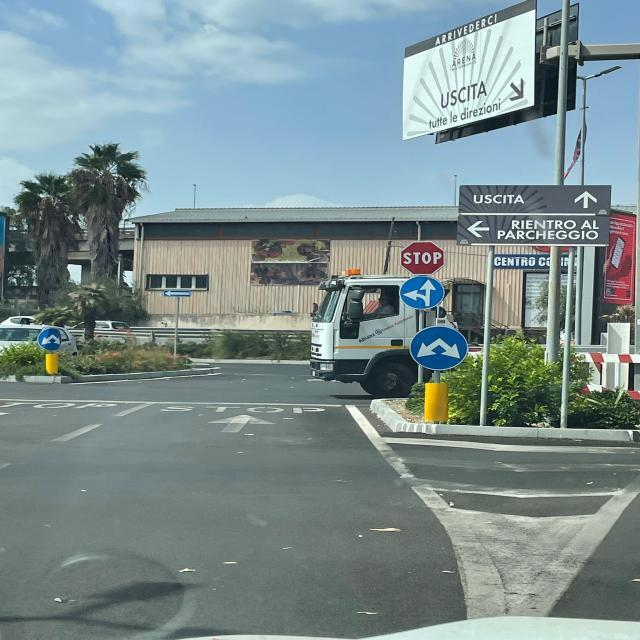prio_stop: (399, 241, 446, 276)
